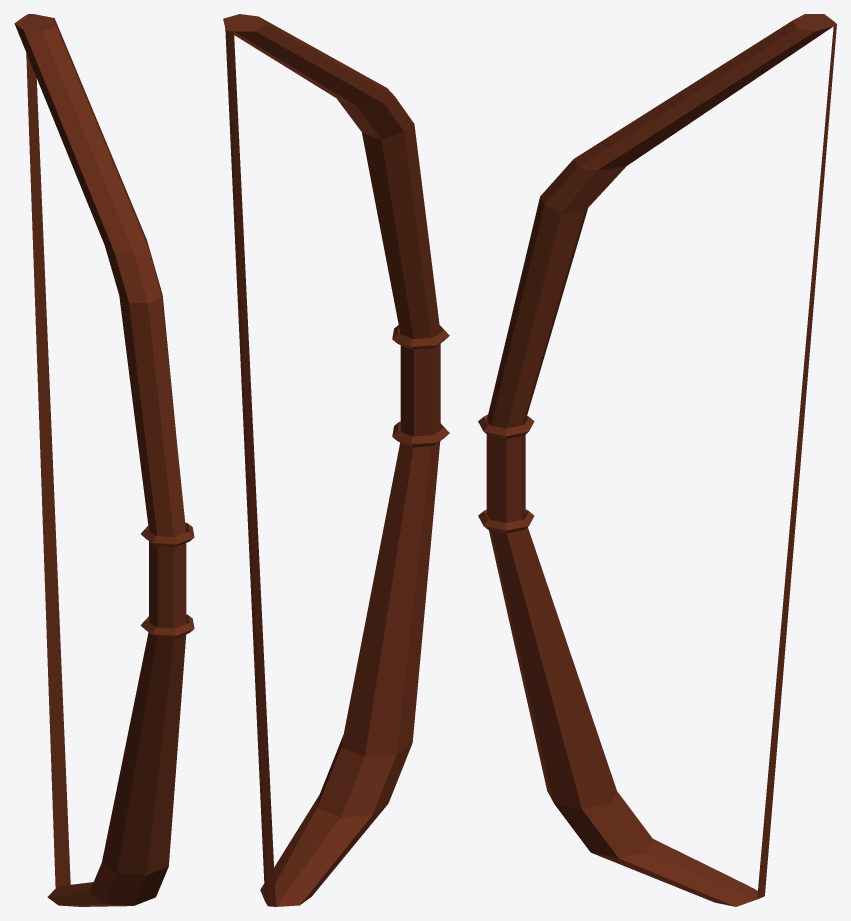
File: roughbow.glb
The picture shows the model from 3 angles, left to right: view 1: azimuth 30°, elevation 25°; view 2: azimuth 150°, elevation 25°; view 3: azimuth 270°, elevation 25°; orthographic projection. The views are drawn at different scales.
Parts seen in each view (by area): view 1: Cube; view 2: Cube; view 3: Cube.
Boxes of the visible parts, left/top/right/bottom form: Cube: left=14, top=14, right=194, bottom=906; Cube: left=223, top=14, right=449, bottom=906; Cube: left=478, top=14, right=836, bottom=906.
Size of the model in its own units: 0.2276 by 2.96 by 1.1.
